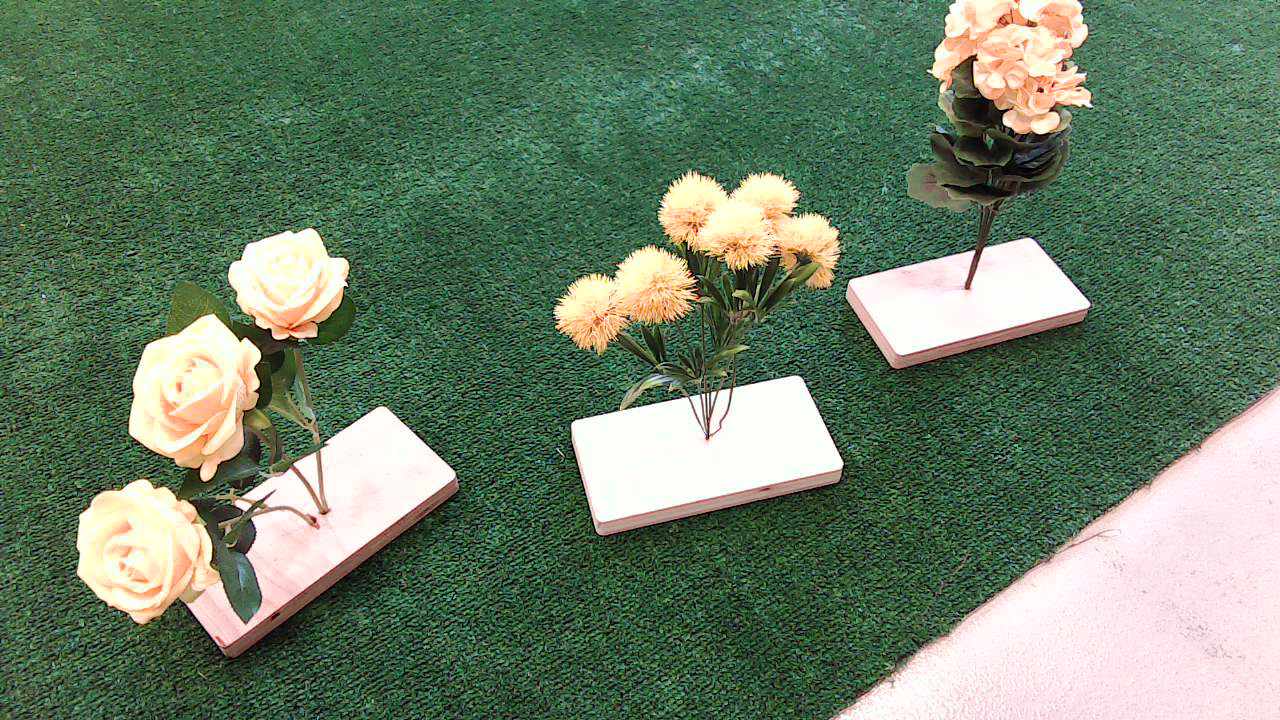dandelion: (521, 177, 873, 370)
geranium: (894, 2, 1118, 230)
rose: (52, 213, 389, 644)
